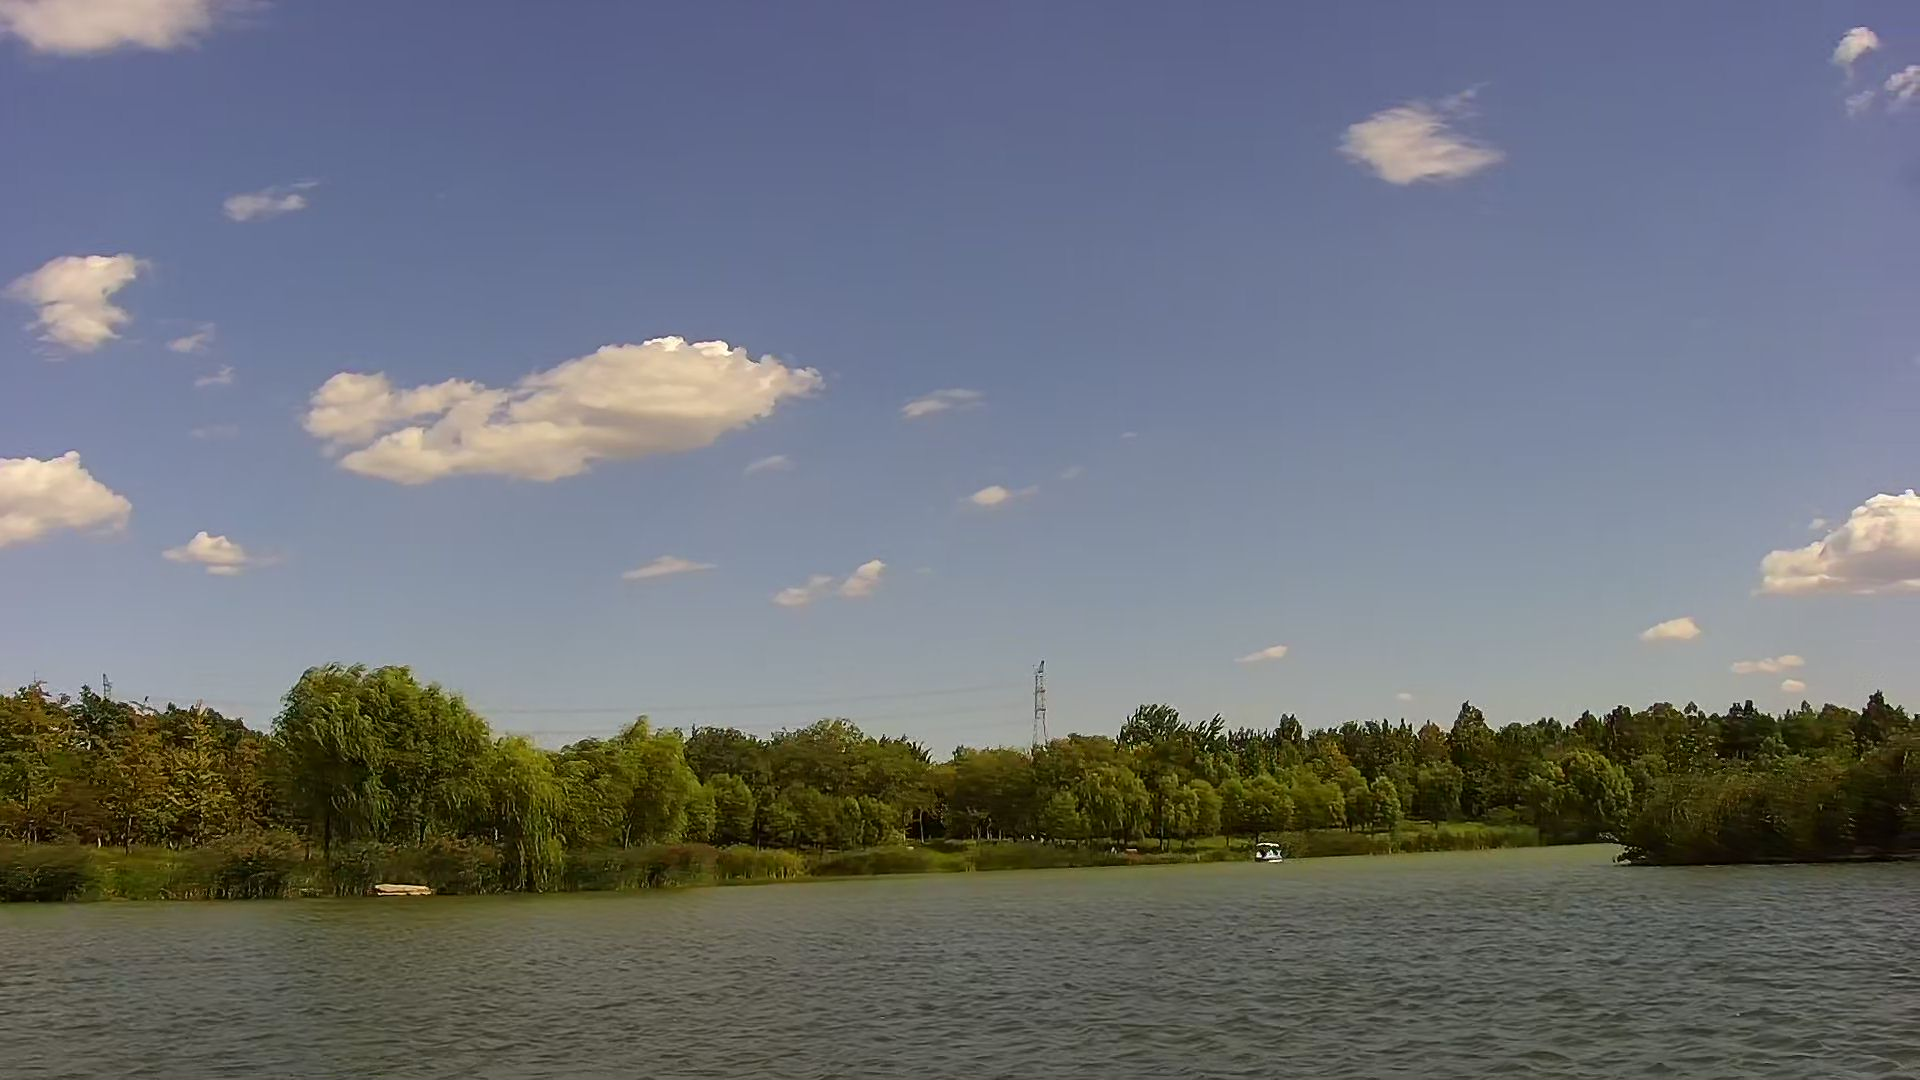boat: (1259, 837, 1279, 862)
rock: (375, 880, 423, 897)
